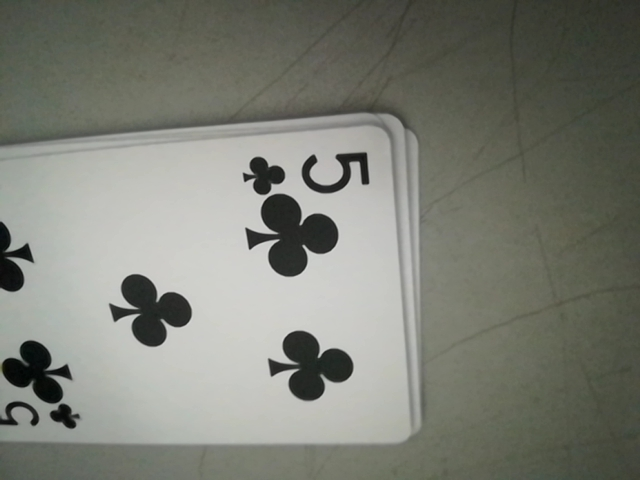mh 5: (238, 141, 375, 198), (0, 397, 83, 435)
